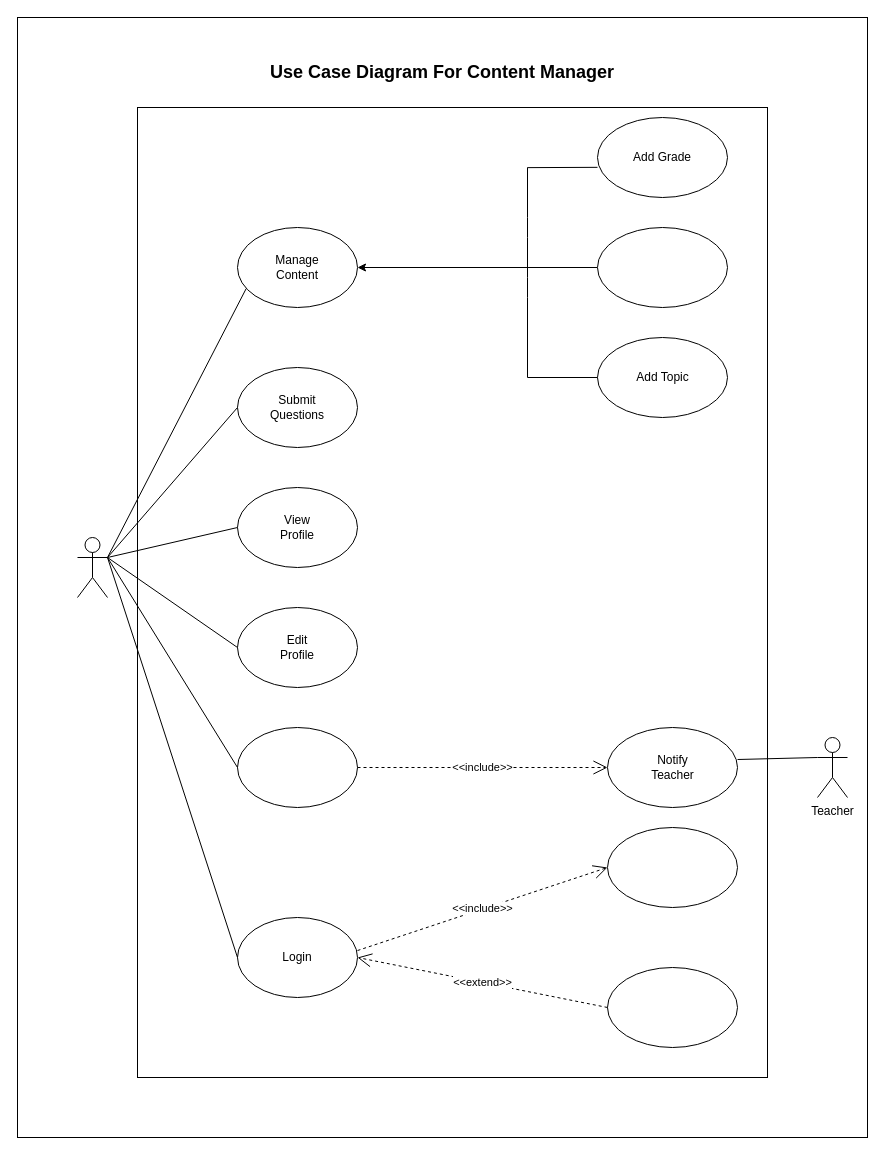
Some shapes in this 885 by 1155 pixel diagram are drawn without their labels. Each missing label, with the centre of its shape:
Accept questions: point (297, 767)
Add Subject: point (662, 267)
Content Manager: point (92, 567)
Forgot Password: point (672, 1007)
Verify Password: point (672, 867)
